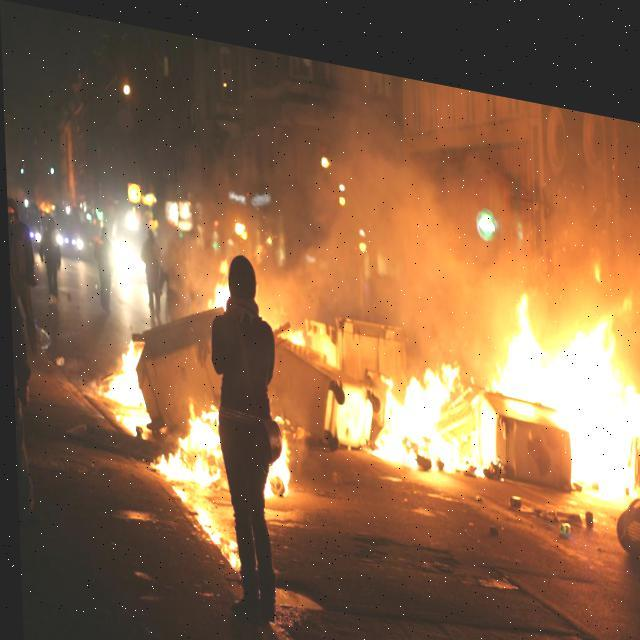Fire: (367, 244, 639, 494), (148, 382, 222, 486), (97, 328, 151, 406), (258, 405, 290, 490)
